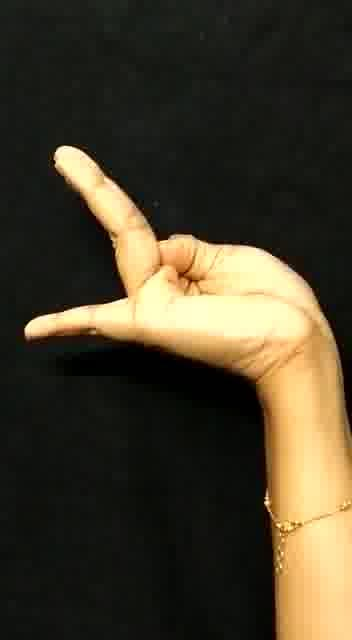chatur: (16, 124, 328, 414)
